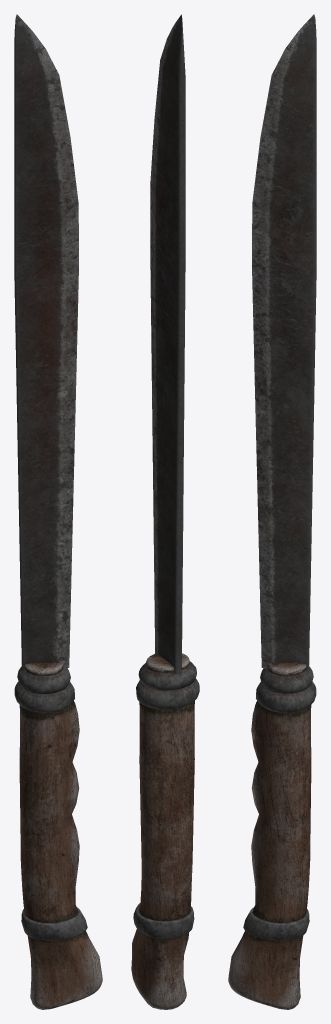
File: machete.glb
3 renders of one model, left to right at view 1: azimuth 90°, elevation 25°; view 2: azimuth 210°, elevation 25°; view 3: azimuth 270°, elevation 25°, orthographic.
Parts seen in each view (by area): view 1: machete; view 2: machete; view 3: machete.
Boxes of the visible parts, box(x1,y1,x2,y2) form: machete: box(14, 14, 102, 1009); machete: box(131, 14, 199, 1009); machete: box(228, 14, 316, 1009).
Size of the model in its own units: 0.0444 by 0.7548 by 0.0611.
Materials: 1 (1 with a texture image).
